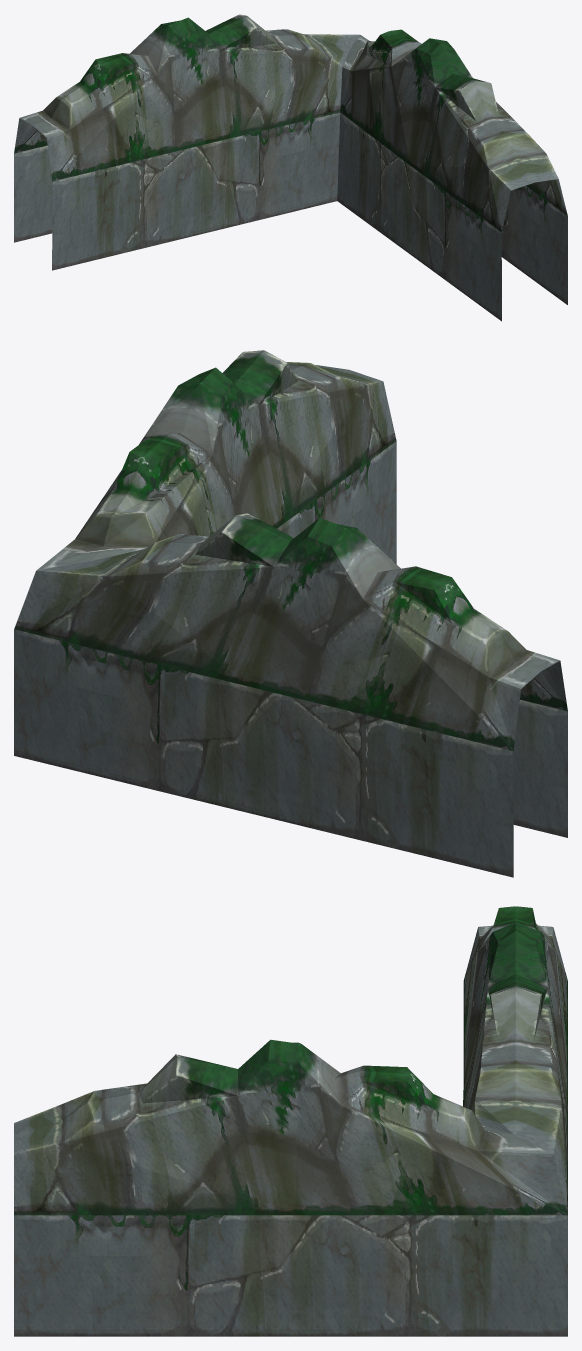
The model's file is stemple_quarter_concave_03.fbx.
The picture shows the model from 3 angles, top to bottom: view 1: azimuth 30°, elevation 25°; view 2: azimuth 150°, elevation 25°; view 3: azimuth 270°, elevation 25°; orthographic projection. The views are drawn at different scales.
Parts seen in each view (by area): view 1: obj1.096; view 2: obj1.096; view 3: obj1.096.
Boxes of the visible parts, x1=… form: obj1.096: x1=14, y1=14, x2=567, y2=321; obj1.096: x1=14, y1=350, x2=567, y2=877; obj1.096: x1=14, y1=906, x2=567, y2=1336.
Bounding box in the file's own units: 4.42 × 2.42 × 4.42.
